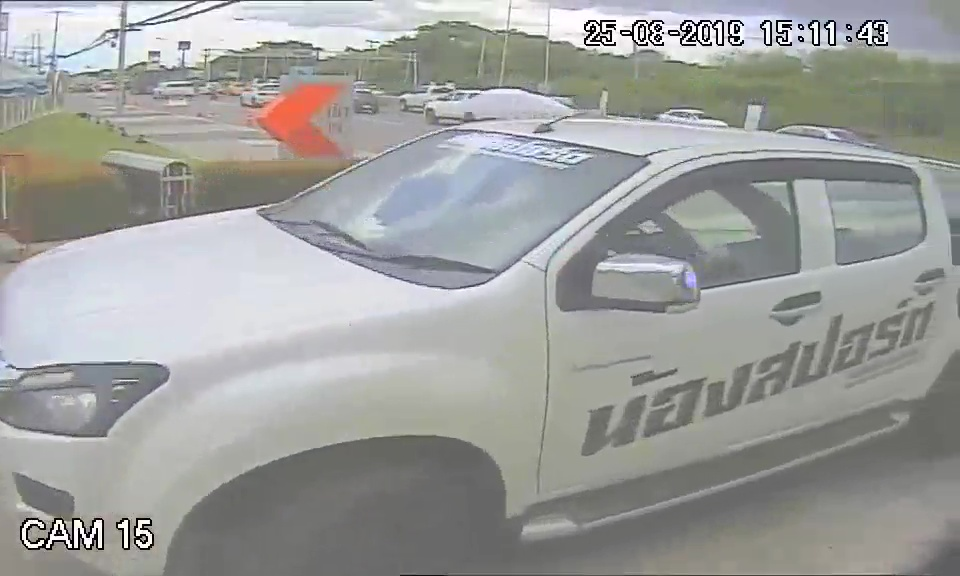pickup: (3, 109, 943, 540)
